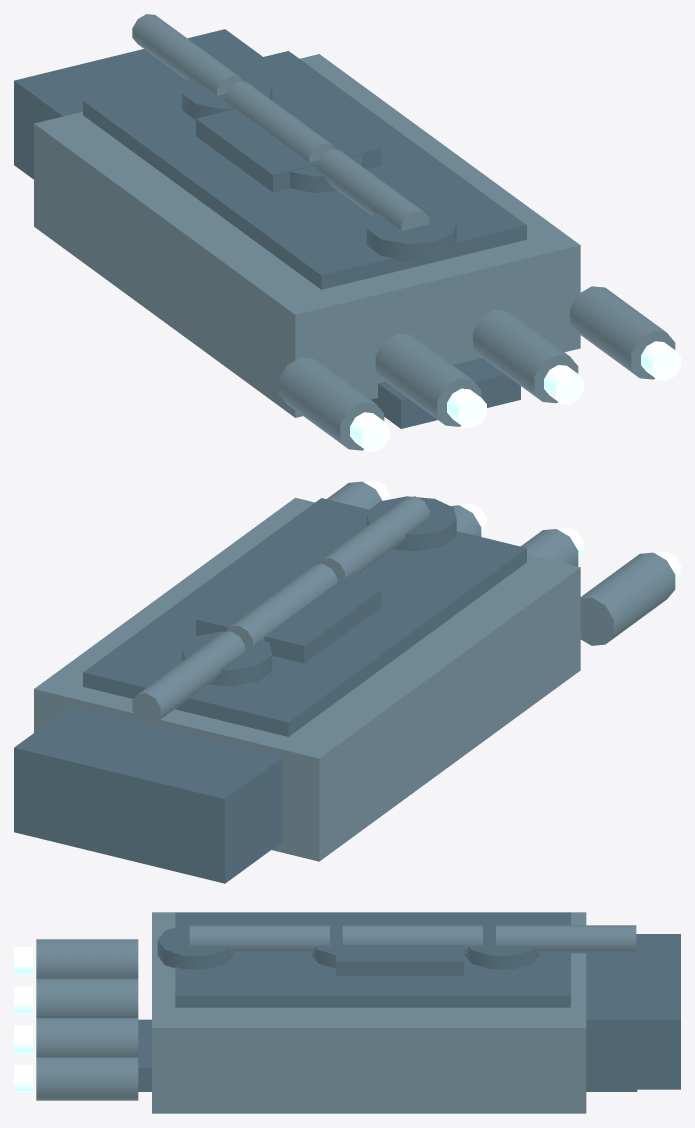
Rendered from assault_carrier.glb.
3 views of the same model, one above another, from view 1: azimuth 30°, elevation 25°; view 2: azimuth 150°, elevation 25°; view 3: azimuth 270°, elevation 25° (orthographic). The views are drawn at different scales.
Visible parts, largest first — view 1: MainHull, FlightDeck, ForeHull, Bridge, Engine1, Engine0, Engine3, Engine2, TurretBarrel2, TurretBarrel0, Turret2, TurretBarrel1 (+7 smaller); view 2: MainHull, ForeHull, FlightDeck, Bridge, Engine0, TurretBarrel0, TurretBarrel2, TurretBarrel1, Turret2, Turret0, Engine1, Engine3; view 3: MainHull, FlightDeck, ForeHull, Bridge, Engine3, Engine1, Engine0, Engine2, TurretBarrel0, TurretBarrel2, TurretBarrel1, Turret2 (+7 smaller).
Boxes of the visible parts, left/top/right/bottom form: MainHull: left=34, top=54, right=580, bottom=417; FlightDeck: left=83, top=51, right=526, bottom=289; ForeHull: left=14, top=29, right=262, bottom=179; Bridge: left=196, top=92, right=381, bottom=192; Engine1: left=375, top=333, right=481, bottom=426; Engine0: left=278, top=357, right=384, bottom=450; Engine3: left=570, top=286, right=675, bottom=379; Engine2: left=473, top=310, right=578, bottom=403; TurretBarrel2: left=317, top=149, right=429, bottom=230; TurretBarrel0: left=132, top=14, right=243, bottom=95; Turret2: left=366, top=205, right=456, bottom=262; TurretBarrel1: left=224, top=81, right=335, bottom=162; MainHull: left=34, top=497, right=580, bottom=861; ForeHull: left=14, top=706, right=282, bottom=883; FlightDeck: left=83, top=498, right=526, bottom=736; Bridge: left=196, top=563, right=381, bottom=663; Engine0: left=580, top=552, right=675, bottom=645; TurretBarrel0: left=132, top=631, right=244, bottom=724; TurretBarrel2: left=318, top=496, right=429, bottom=577; TurretBarrel1: left=226, top=564, right=337, bottom=645; Turret2: left=366, top=496, right=456, bottom=551; Turret0: left=182, top=631, right=272, bottom=686; Engine1: left=520, top=529, right=578, bottom=566; Engine3: left=326, top=481, right=382, bottom=509; MainHull: left=152, top=912, right=586, bottom=1113; FlightDeck: left=175, top=912, right=570, bottom=1007; ForeHull: left=586, top=934, right=680, bottom=1089; Bridge: left=336, top=917, right=463, bottom=975; Engine3: left=36, top=1057, right=138, bottom=1100; Engine1: left=36, top=978, right=138, bottom=1017; Engine0: left=36, top=939, right=138, bottom=978; Engine2: left=36, top=1017, right=138, bottom=1056; TurretBarrel0: left=496, top=925, right=636, bottom=953; TurretBarrel2: left=189, top=925, right=329, bottom=953; TurretBarrel1: left=342, top=925, right=482, bottom=953; Turret2: left=157, top=925, right=234, bottom=969.
Size of the model in its own units: 4.93 by 2.39 by 10.24.
